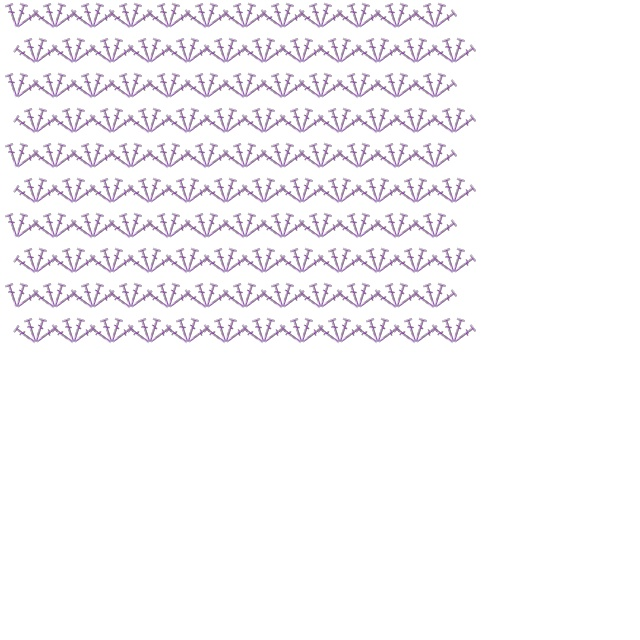double treble: (15, 9, 39, 30), (33, 9, 57, 30), (53, 9, 77, 30), (71, 9, 95, 30), (91, 9, 115, 30), (109, 9, 133, 30), (129, 9, 153, 30), (147, 9, 171, 30), (167, 9, 191, 30), (185, 9, 209, 30), (205, 9, 229, 30), (223, 9, 247, 30), (243, 9, 267, 30), (261, 9, 285, 30), (281, 9, 305, 30), (299, 9, 323, 30), (319, 9, 343, 30), (337, 9, 361, 30), (357, 9, 381, 30), (375, 9, 399, 30), (395, 9, 419, 30), (413, 9, 437, 30), (433, 9, 457, 30), (14, 44, 38, 65), (34, 44, 58, 65), (52, 44, 76, 65), (72, 44, 96, 65), (90, 44, 114, 65), (110, 44, 134, 65), (128, 44, 152, 65), (148, 44, 172, 65), (166, 44, 190, 65), (186, 44, 210, 65), (204, 44, 228, 65), (224, 44, 248, 65), (242, 44, 266, 65), (262, 44, 286, 65), (280, 44, 304, 65), (300, 44, 324, 65), (318, 44, 342, 65), (338, 44, 362, 65), (356, 44, 380, 65), (376, 44, 400, 65), (394, 44, 418, 65), (414, 44, 438, 65), (432, 44, 456, 65), (452, 44, 476, 65), (15, 79, 39, 100), (33, 79, 57, 100), (53, 79, 77, 100), (71, 79, 95, 100), (91, 79, 115, 100), (109, 79, 133, 100), (129, 79, 153, 100), (147, 79, 171, 100), (167, 79, 191, 100), (185, 79, 209, 100), (205, 79, 229, 100), (223, 79, 247, 100), (243, 79, 267, 100), (261, 79, 285, 100), (281, 79, 305, 100), (299, 79, 323, 100), (319, 79, 343, 100), (337, 79, 361, 100), (357, 79, 381, 100), (375, 79, 399, 100), (395, 79, 419, 100), (413, 79, 437, 100), (433, 79, 457, 100), (14, 114, 38, 135), (34, 114, 58, 135), (52, 114, 76, 135), (72, 114, 96, 135), (90, 114, 114, 135), (110, 114, 134, 135), (128, 114, 152, 135), (148, 114, 172, 135), (166, 114, 190, 135), (186, 114, 210, 135), (204, 114, 228, 135), (224, 114, 248, 135), (242, 114, 266, 135), (262, 114, 286, 135), (280, 114, 304, 135), (300, 114, 324, 135), (318, 114, 342, 135), (338, 114, 362, 135), (356, 114, 380, 135), (376, 114, 400, 135), (394, 114, 418, 135), (414, 114, 438, 135), (432, 114, 456, 135), (452, 114, 476, 135), (15, 149, 39, 170), (33, 149, 57, 170), (53, 149, 77, 170), (71, 149, 95, 170), (91, 149, 115, 170), (109, 149, 133, 170), (129, 149, 153, 170), (147, 149, 171, 170), (167, 149, 191, 170), (185, 149, 209, 170), (205, 149, 229, 170), (223, 149, 247, 170), (243, 149, 267, 170), (261, 149, 285, 170), (281, 149, 305, 170), (299, 149, 323, 170), (319, 149, 343, 170), (337, 149, 361, 170), (357, 149, 381, 170), (375, 149, 399, 170), (395, 149, 419, 170), (413, 149, 437, 170), (433, 149, 457, 170), (14, 184, 38, 205), (34, 184, 58, 205), (52, 184, 76, 205), (72, 184, 96, 205), (90, 184, 114, 205), (110, 184, 134, 205), (128, 184, 152, 205), (148, 184, 172, 205), (166, 184, 190, 205), (186, 184, 210, 205), (204, 184, 228, 205), (224, 184, 248, 205), (242, 184, 266, 205), (262, 184, 286, 205), (280, 184, 304, 205), (300, 184, 324, 205), (318, 184, 342, 205), (338, 184, 362, 205), (356, 184, 380, 205), (376, 184, 400, 205), (394, 184, 418, 205), (414, 184, 438, 205), (432, 184, 456, 205), (452, 184, 476, 205), (15, 219, 39, 240), (33, 219, 57, 240), (53, 219, 77, 240), (71, 219, 95, 240), (91, 219, 115, 240), (109, 219, 133, 240), (129, 219, 153, 240), (147, 219, 171, 240), (167, 219, 191, 240), (185, 219, 209, 240), (205, 219, 229, 240), (223, 219, 247, 240), (243, 219, 267, 240), (261, 219, 285, 240), (281, 219, 305, 240), (299, 219, 323, 240), (319, 219, 343, 240), (337, 219, 361, 240), (357, 219, 381, 240), (375, 219, 399, 240), (395, 219, 419, 240), (413, 219, 437, 240), (433, 219, 457, 240), (14, 254, 38, 275), (34, 254, 58, 275), (52, 254, 76, 275), (72, 254, 96, 275), (90, 254, 114, 275), (110, 254, 134, 275), (128, 254, 152, 275), (148, 254, 172, 275), (166, 254, 190, 275), (186, 254, 210, 275), (204, 254, 228, 275), (224, 254, 248, 275), (242, 254, 266, 275), (262, 254, 286, 275), (280, 254, 304, 275), (300, 254, 324, 275), (318, 254, 342, 275), (338, 254, 362, 275), (356, 254, 380, 275), (376, 254, 400, 275), (394, 254, 418, 275), (414, 254, 438, 275), (432, 254, 456, 275), (452, 254, 476, 275), (15, 289, 39, 310), (33, 289, 57, 310), (53, 289, 77, 310), (71, 289, 95, 310), (91, 289, 115, 310), (109, 289, 133, 310), (129, 289, 153, 310), (147, 289, 171, 310), (167, 289, 191, 310), (185, 289, 209, 310), (205, 289, 229, 310), (223, 289, 247, 310), (243, 289, 267, 310), (261, 289, 285, 310), (281, 289, 305, 310), (299, 289, 323, 310), (319, 289, 343, 310), (337, 289, 361, 310), (357, 289, 381, 310), (375, 289, 399, 310), (395, 289, 419, 310), (413, 289, 437, 310), (433, 289, 457, 310), (14, 324, 38, 345), (34, 324, 58, 345), (52, 324, 76, 345), (72, 324, 96, 345), (90, 324, 114, 345), (110, 324, 134, 345), (128, 324, 152, 345), (148, 324, 172, 345), (166, 324, 190, 345), (186, 324, 210, 345), (204, 324, 228, 345), (224, 324, 248, 345), (242, 324, 266, 345), (262, 324, 286, 345), (280, 324, 304, 345), (300, 324, 324, 345), (318, 324, 342, 345), (338, 324, 362, 345), (356, 324, 380, 345), (376, 324, 400, 345), (394, 324, 418, 345), (414, 324, 438, 345), (432, 324, 456, 345), (452, 324, 476, 345), (6, 2, 21, 28), (13, 2, 28, 28), (44, 2, 59, 28), (51, 2, 66, 28), (82, 2, 97, 28), (89, 2, 104, 28), (120, 2, 135, 28), (127, 2, 142, 28), (158, 2, 173, 28), (165, 2, 180, 28), (196, 2, 211, 28), (203, 2, 218, 28), (234, 2, 249, 28), (241, 2, 256, 28), (272, 2, 287, 28), (279, 2, 294, 28), (310, 2, 325, 28), (317, 2, 332, 28), (348, 2, 363, 28), (355, 2, 370, 28), (386, 2, 401, 28), (393, 2, 408, 28), (424, 2, 439, 28), (431, 2, 446, 28), (25, 37, 40, 63), (32, 37, 47, 63), (63, 37, 78, 63), (70, 37, 85, 63), (101, 37, 116, 63), (108, 37, 123, 63), (139, 37, 154, 63), (146, 37, 161, 63), (177, 37, 192, 63), (184, 37, 199, 63), (215, 37, 230, 63), (222, 37, 237, 63), (253, 37, 268, 63), (260, 37, 275, 63), (291, 37, 306, 63), (298, 37, 313, 63), (329, 37, 344, 63), (336, 37, 351, 63), (367, 37, 382, 63), (374, 37, 389, 63), (405, 37, 420, 63), (412, 37, 427, 63), (443, 37, 458, 63), (450, 37, 465, 63), (6, 72, 21, 98), (13, 72, 28, 98), (44, 72, 59, 98), (51, 72, 66, 98), (82, 72, 97, 98), (89, 72, 104, 98), (120, 72, 135, 98), (127, 72, 142, 98), (158, 72, 173, 98), (165, 72, 180, 98), (196, 72, 211, 98), (203, 72, 218, 98), (234, 72, 249, 98), (241, 72, 256, 98), (272, 72, 287, 98), (279, 72, 294, 98), (310, 72, 325, 98), (317, 72, 332, 98), (348, 72, 363, 98), (355, 72, 370, 98), (386, 72, 401, 98), (393, 72, 408, 98), (424, 72, 439, 98), (431, 72, 446, 98), (25, 107, 40, 133), (32, 107, 47, 133), (63, 107, 78, 133), (70, 107, 85, 133), (101, 107, 116, 133), (108, 107, 123, 133), (139, 107, 154, 133), (146, 107, 161, 133), (177, 107, 192, 133), (184, 107, 199, 133), (215, 107, 230, 133), (222, 107, 237, 133), (253, 107, 268, 133), (260, 107, 275, 133), (291, 107, 306, 133), (298, 107, 313, 133), (329, 107, 344, 133), (336, 107, 351, 133), (367, 107, 382, 133), (374, 107, 389, 133), (405, 107, 420, 133), (412, 107, 427, 133), (443, 107, 458, 133), (450, 107, 465, 133), (6, 142, 21, 168), (13, 142, 28, 168), (44, 142, 59, 168), (51, 142, 66, 168), (82, 142, 97, 168), (89, 142, 104, 168), (120, 142, 135, 168), (127, 142, 142, 168), (158, 142, 173, 168), (165, 142, 180, 168), (196, 142, 211, 168), (203, 142, 218, 168), (234, 142, 249, 168), (241, 142, 256, 168), (272, 142, 287, 168), (279, 142, 294, 168), (310, 142, 325, 168), (317, 142, 332, 168), (348, 142, 363, 168), (355, 142, 370, 168), (386, 142, 401, 168), (393, 142, 408, 168), (424, 142, 439, 168), (431, 142, 446, 168), (25, 177, 40, 203), (32, 177, 47, 203), (63, 177, 78, 203), (70, 177, 85, 203), (101, 177, 116, 203), (108, 177, 123, 203), (139, 177, 154, 203), (146, 177, 161, 203), (177, 177, 192, 203), (184, 177, 199, 203), (215, 177, 230, 203), (222, 177, 237, 203), (253, 177, 268, 203), (260, 177, 275, 203), (291, 177, 306, 203), (298, 177, 313, 203), (329, 177, 344, 203), (336, 177, 351, 203), (367, 177, 382, 203), (374, 177, 389, 203), (405, 177, 420, 203), (412, 177, 427, 203), (443, 177, 458, 203), (450, 177, 465, 203), (6, 212, 21, 238), (13, 212, 28, 238), (44, 212, 59, 238), (51, 212, 66, 238), (82, 212, 97, 238), (89, 212, 104, 238), (120, 212, 135, 238), (127, 212, 142, 238), (158, 212, 173, 238), (165, 212, 180, 238), (196, 212, 211, 238), (203, 212, 218, 238), (234, 212, 249, 238), (241, 212, 256, 238), (272, 212, 287, 238), (279, 212, 294, 238), (310, 212, 325, 238), (317, 212, 332, 238), (348, 212, 363, 238), (355, 212, 370, 238), (386, 212, 401, 238), (393, 212, 408, 238), (424, 212, 439, 238), (431, 212, 446, 238), (25, 247, 40, 273), (32, 247, 47, 273), (63, 247, 78, 273), (70, 247, 85, 273), (101, 247, 116, 273), (108, 247, 123, 273), (139, 247, 154, 273), (146, 247, 161, 273), (177, 247, 192, 273), (184, 247, 199, 273), (215, 247, 230, 273), (222, 247, 237, 273), (253, 247, 268, 273), (260, 247, 275, 273), (291, 247, 306, 273), (298, 247, 313, 273), (329, 247, 344, 273), (336, 247, 351, 273), (367, 247, 382, 273), (374, 247, 389, 273), (405, 247, 420, 273), (412, 247, 427, 273), (443, 247, 458, 273), (450, 247, 465, 273), (6, 282, 21, 308), (13, 282, 28, 308), (44, 282, 59, 308), (51, 282, 66, 308), (82, 282, 97, 308), (89, 282, 104, 308), (120, 282, 135, 308), (127, 282, 142, 308), (158, 282, 173, 308), (165, 282, 180, 308), (196, 282, 211, 308), (203, 282, 218, 308), (234, 282, 249, 308), (241, 282, 256, 308), (272, 282, 287, 308), (279, 282, 294, 308), (310, 282, 325, 308), (317, 282, 332, 308), (348, 282, 363, 308), (355, 282, 370, 308), (386, 282, 401, 308), (393, 282, 408, 308), (424, 282, 439, 308), (431, 282, 446, 308), (25, 317, 40, 343), (32, 317, 47, 343), (63, 317, 78, 343), (70, 317, 85, 343), (101, 317, 116, 343), (108, 317, 123, 343), (139, 317, 154, 343), (146, 317, 161, 343), (177, 317, 192, 343), (184, 317, 199, 343), (215, 317, 230, 343), (222, 317, 237, 343), (253, 317, 268, 343), (260, 317, 275, 343), (291, 317, 306, 343), (298, 317, 313, 343), (329, 317, 344, 343), (336, 317, 351, 343), (367, 317, 382, 343), (374, 317, 389, 343), (405, 317, 420, 343), (412, 317, 427, 343), (443, 317, 458, 343), (450, 317, 465, 343)
